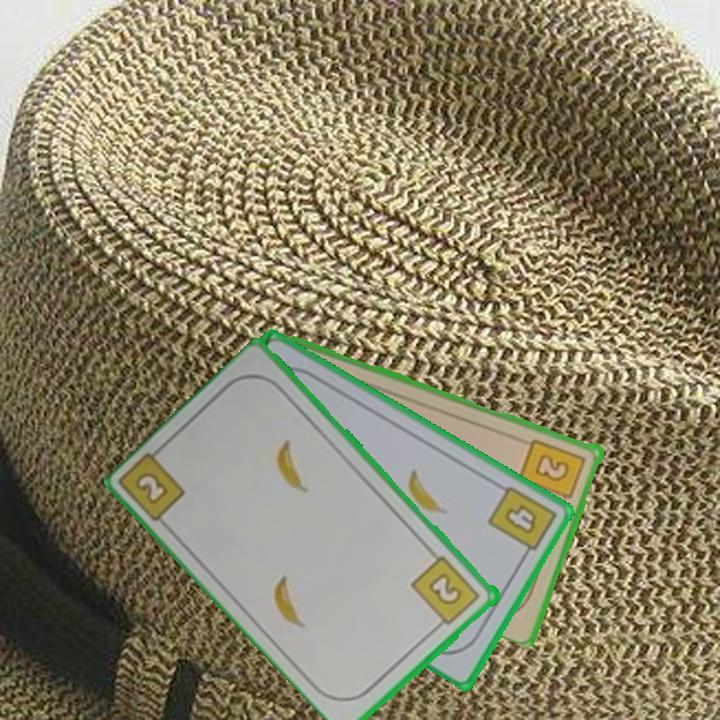2b: (408, 552, 484, 632), (516, 434, 589, 510), (132, 468, 172, 508)
4b: (484, 482, 560, 563)
